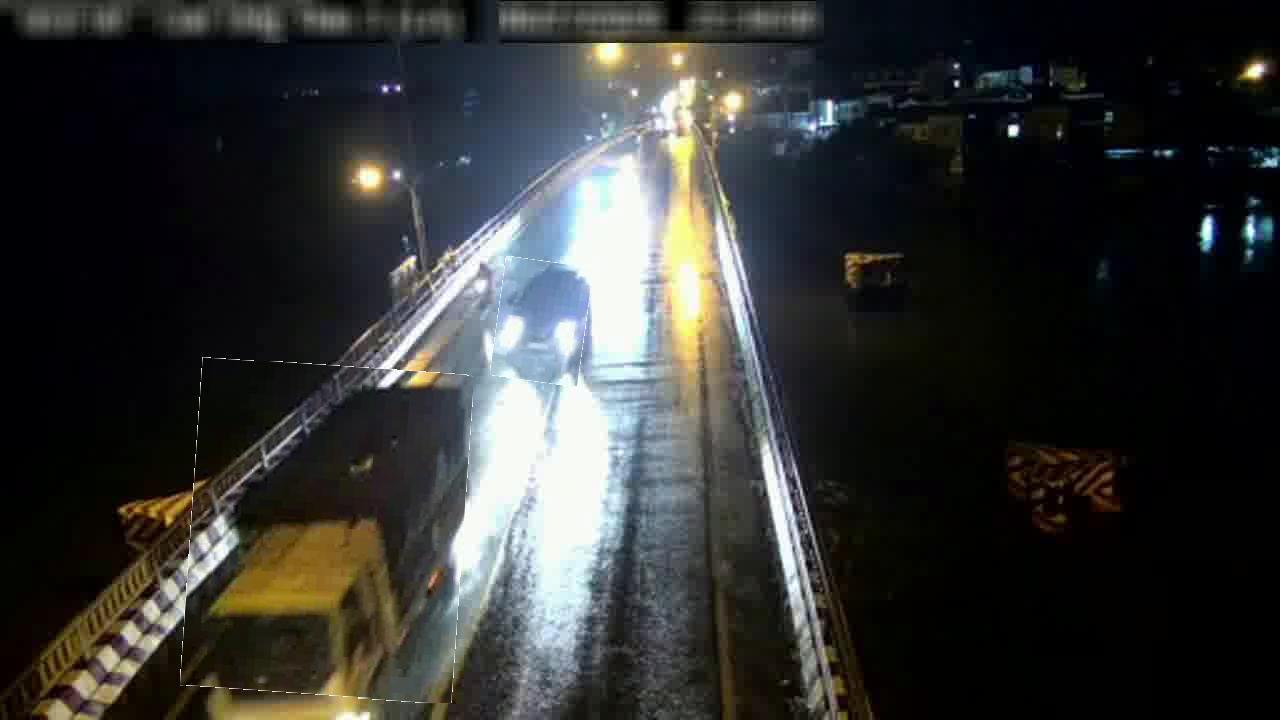car: (494, 259, 590, 385)
container: (186, 362, 469, 700)
